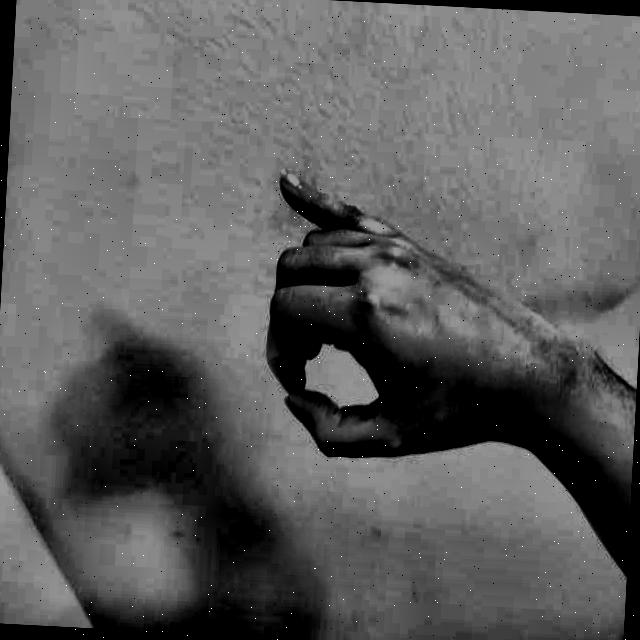Ou: (216, 136, 556, 524)
